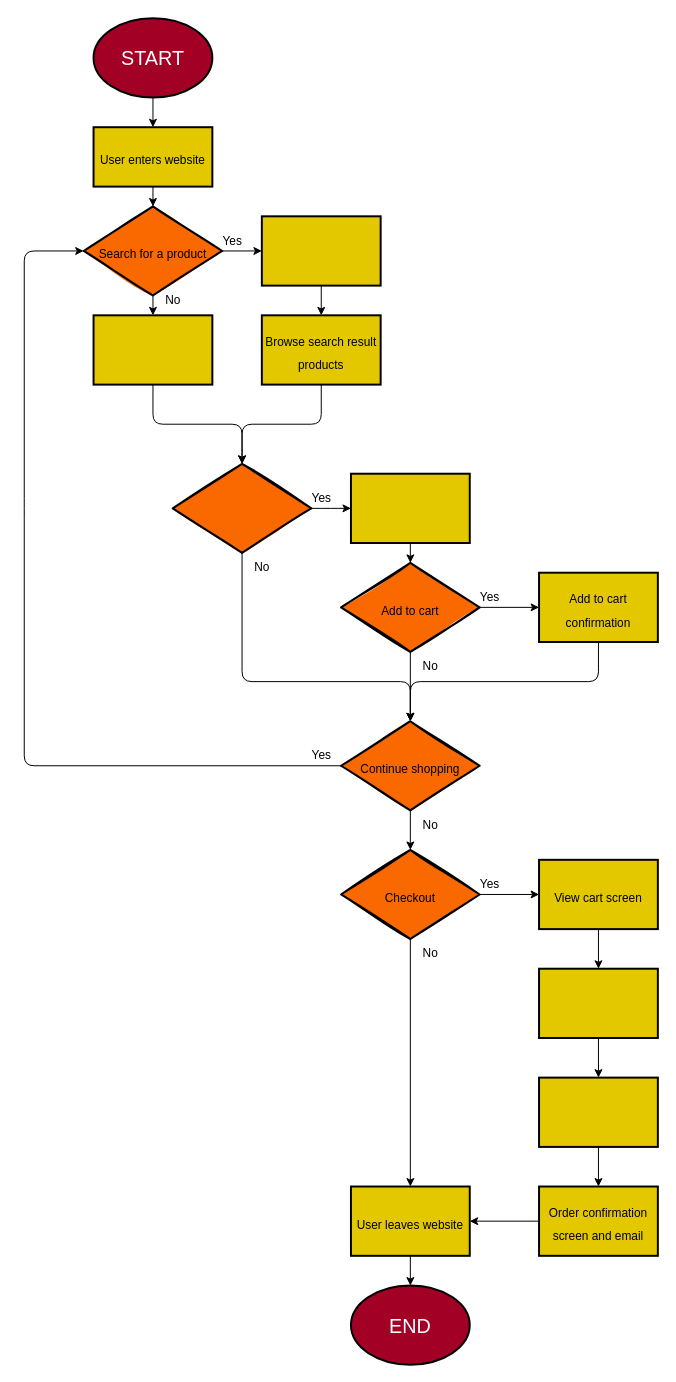
Image size: 676x1382. Some labels were removed from this diagram. The box of each missing label's shape, as (x1, y1, x2, y2) in pixels:
Browse homepage products: (92, 314, 213, 385)
Input payment information: (538, 1076, 658, 1147)
Open product webpage: (349, 472, 470, 544)
Provide search input: (260, 215, 381, 286)
View payment screen: (538, 967, 658, 1039)
View product: (171, 462, 312, 553)
